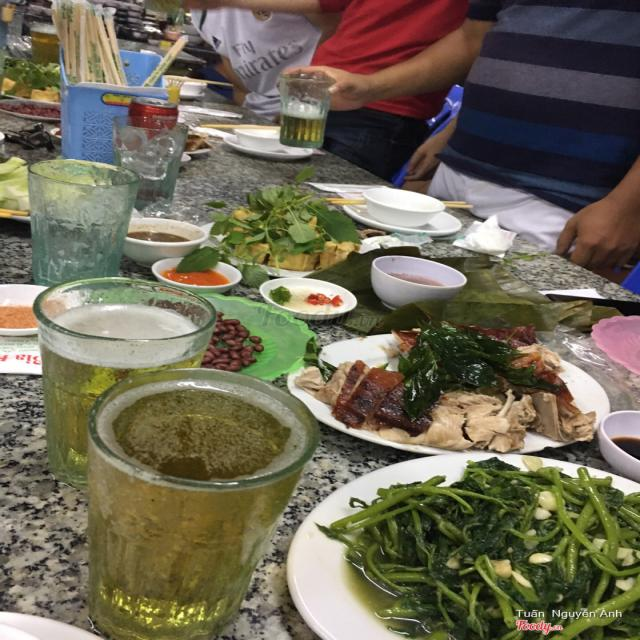bia: (72, 367, 318, 640), (28, 283, 215, 486)
dau hu chien: (228, 194, 356, 270)
rau muong xao toi: (326, 462, 640, 640)
vit quay: (307, 319, 595, 451)
